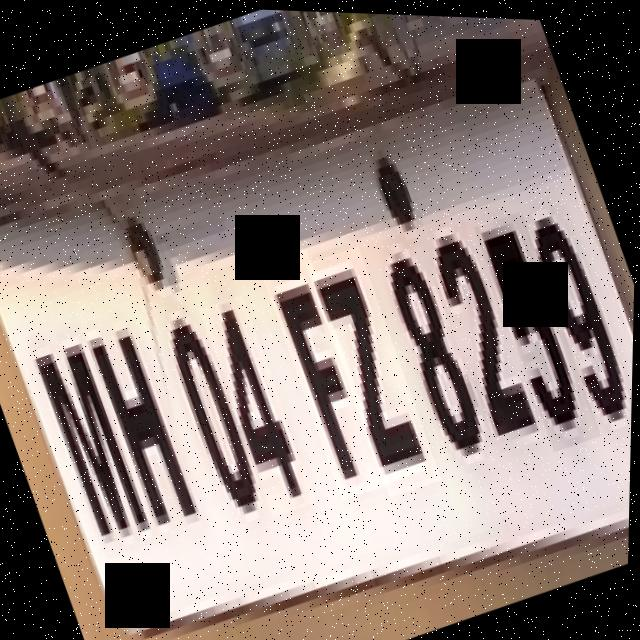0: (159, 305, 275, 512)
4: (197, 291, 322, 516)
5: (472, 206, 607, 449)
8: (378, 241, 503, 473)
9: (517, 195, 637, 435)
F: (256, 245, 398, 499)
H: (84, 319, 214, 545)
M: (23, 318, 163, 560)
Z: (304, 241, 449, 496)
